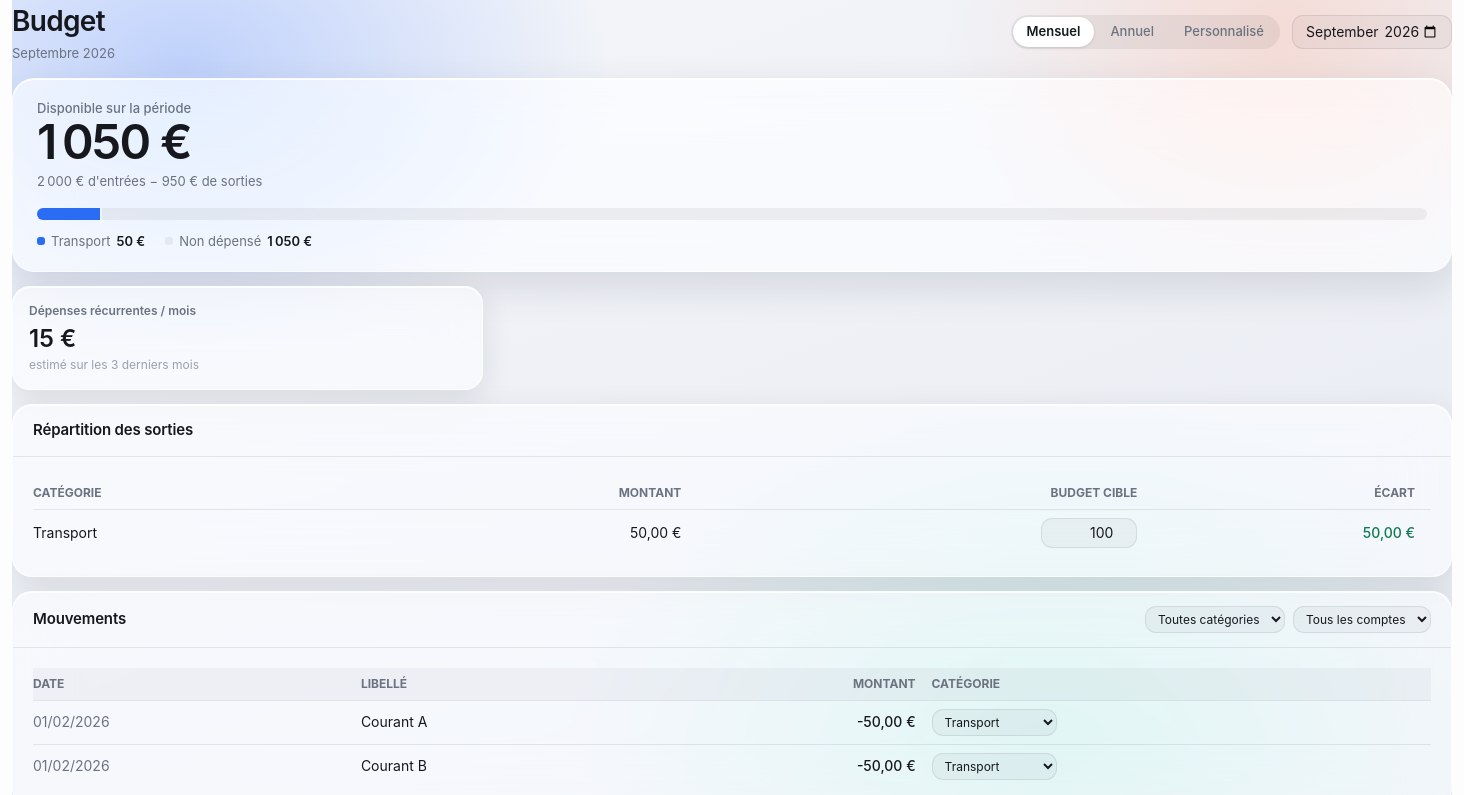
Test case: BudgetPage — mouvements (backlog 2.N.1) › le filtre par compte masque les mouvements des autres comptes
Expected: the text "Courant A" is shown, [361,700,653,744]
Select "Compte A" in the 2nd dropdown showing "Tous les comptes" at (1362, 619), box [1293,606,1431,632]
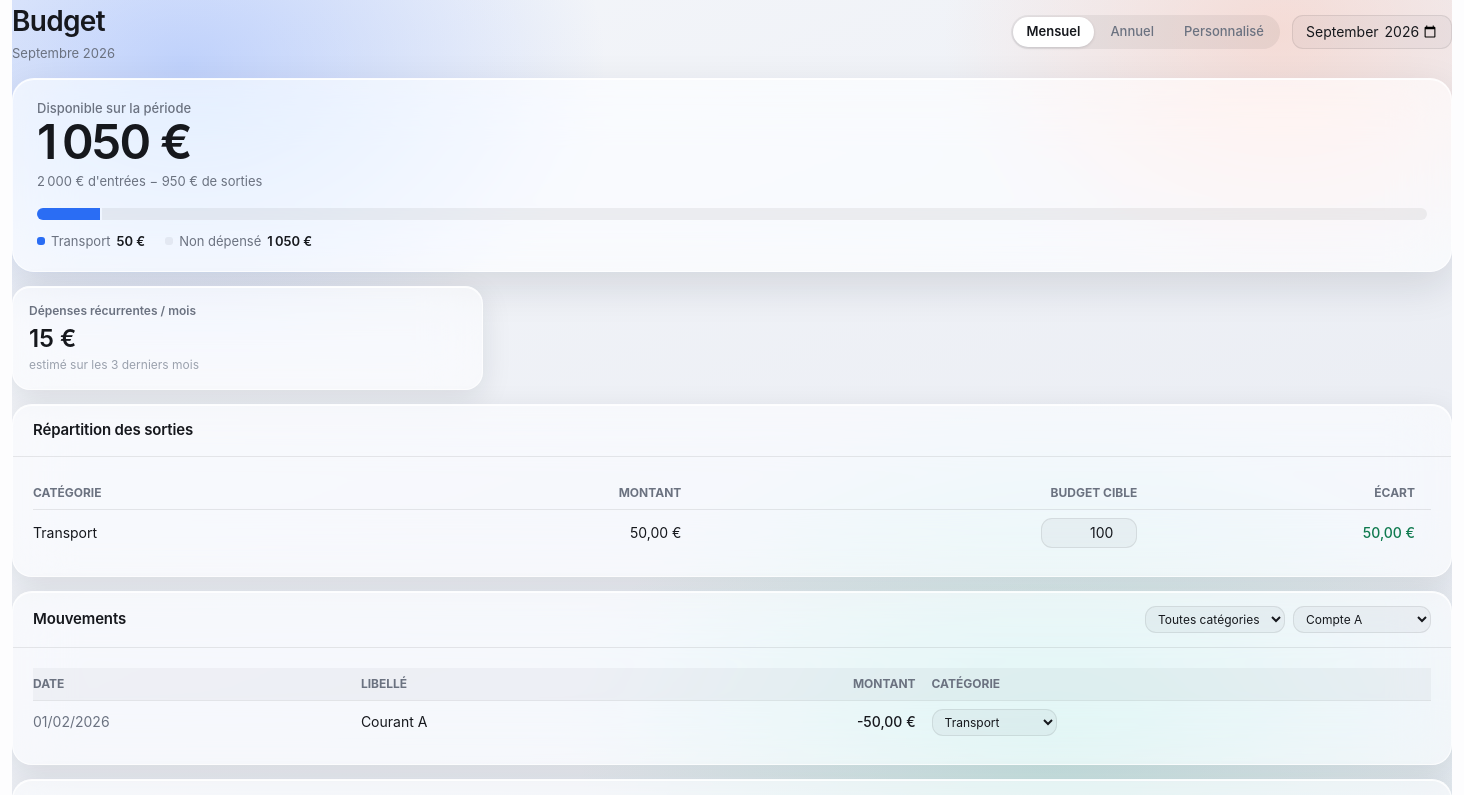
Expected: the text "Courant A" is shown, [361,700,653,744]
Expected: the text "Courant B" is gone
